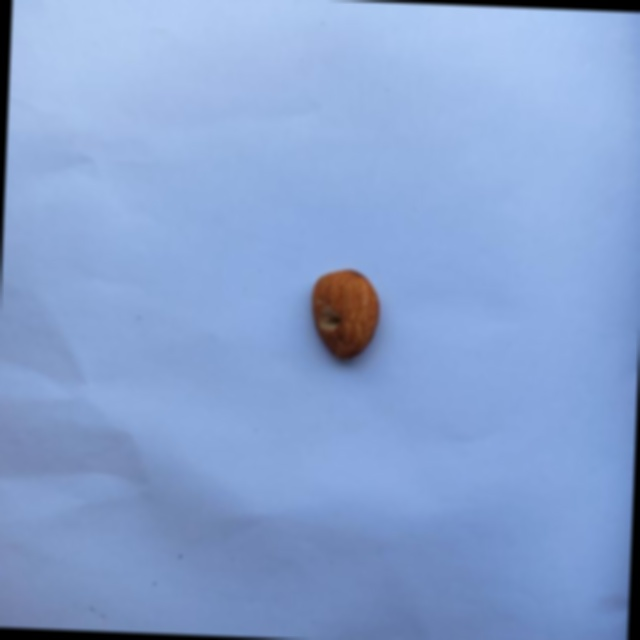grade3: (304, 264, 383, 366)
